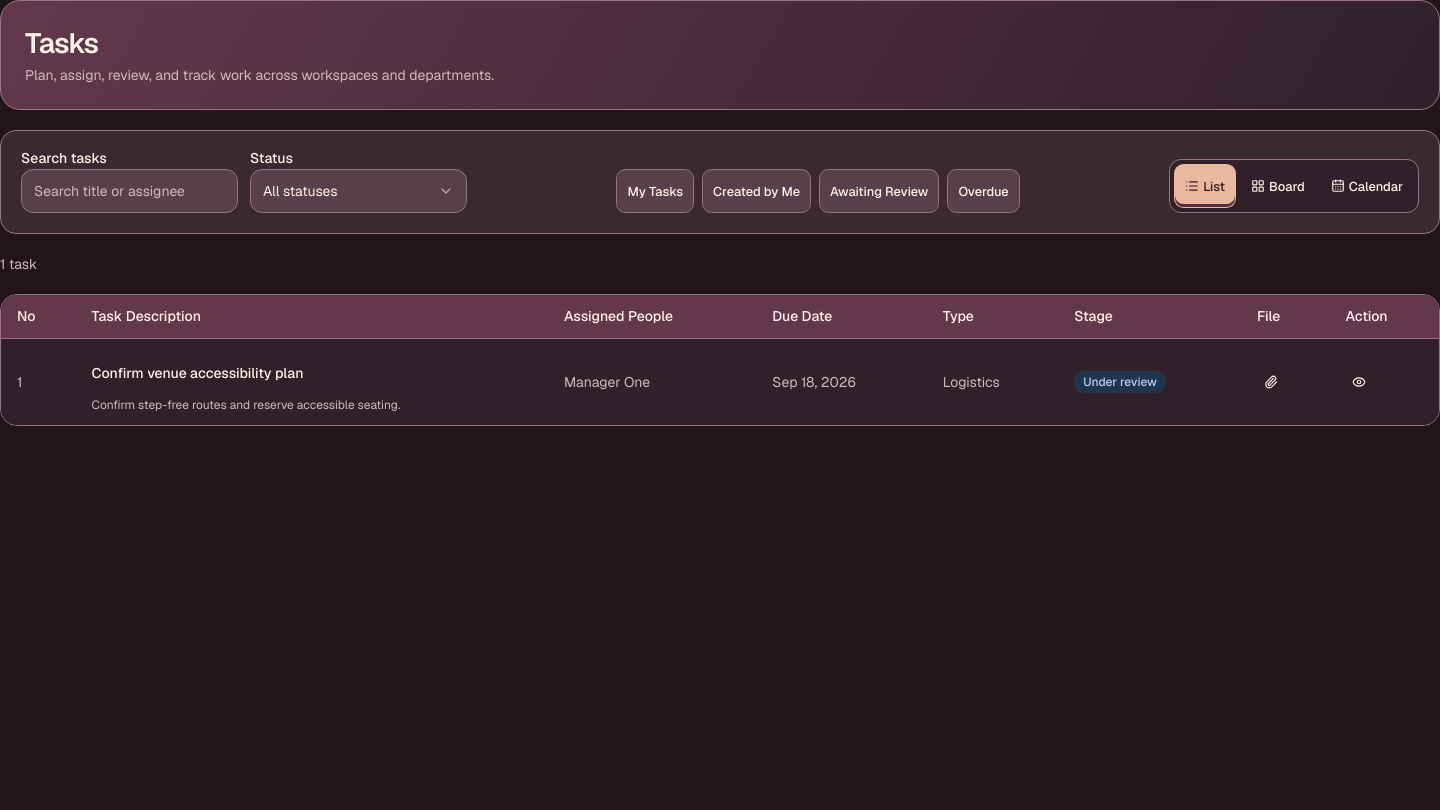
TasksManager › hides checklist-add and review controls from a Manager who is only this task's assignee, not its creator
Click the button "Confirm venue accessibility plan": (198, 373) [92,351,304,395]
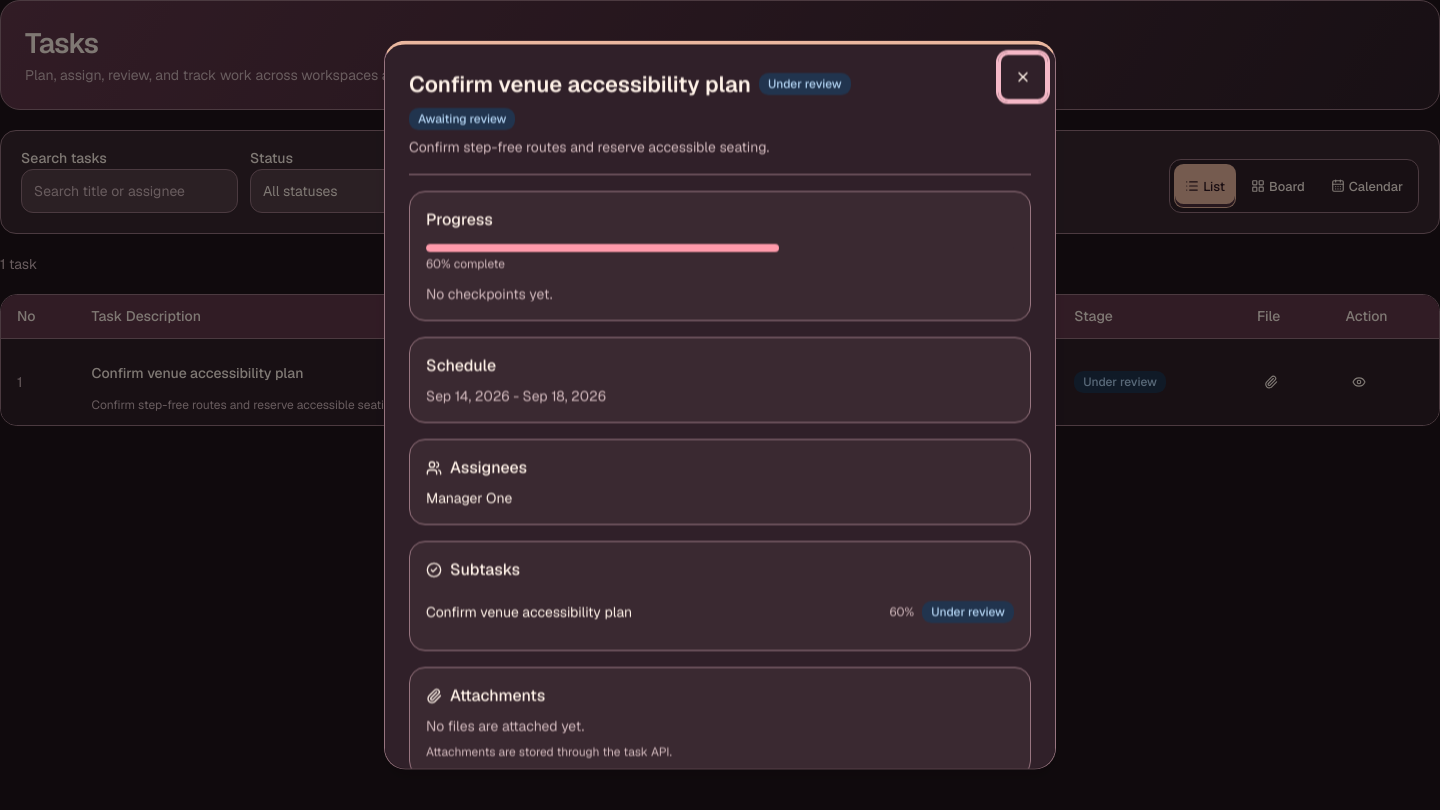
Expected: the dialog is shown, [384,40,1056,770]
